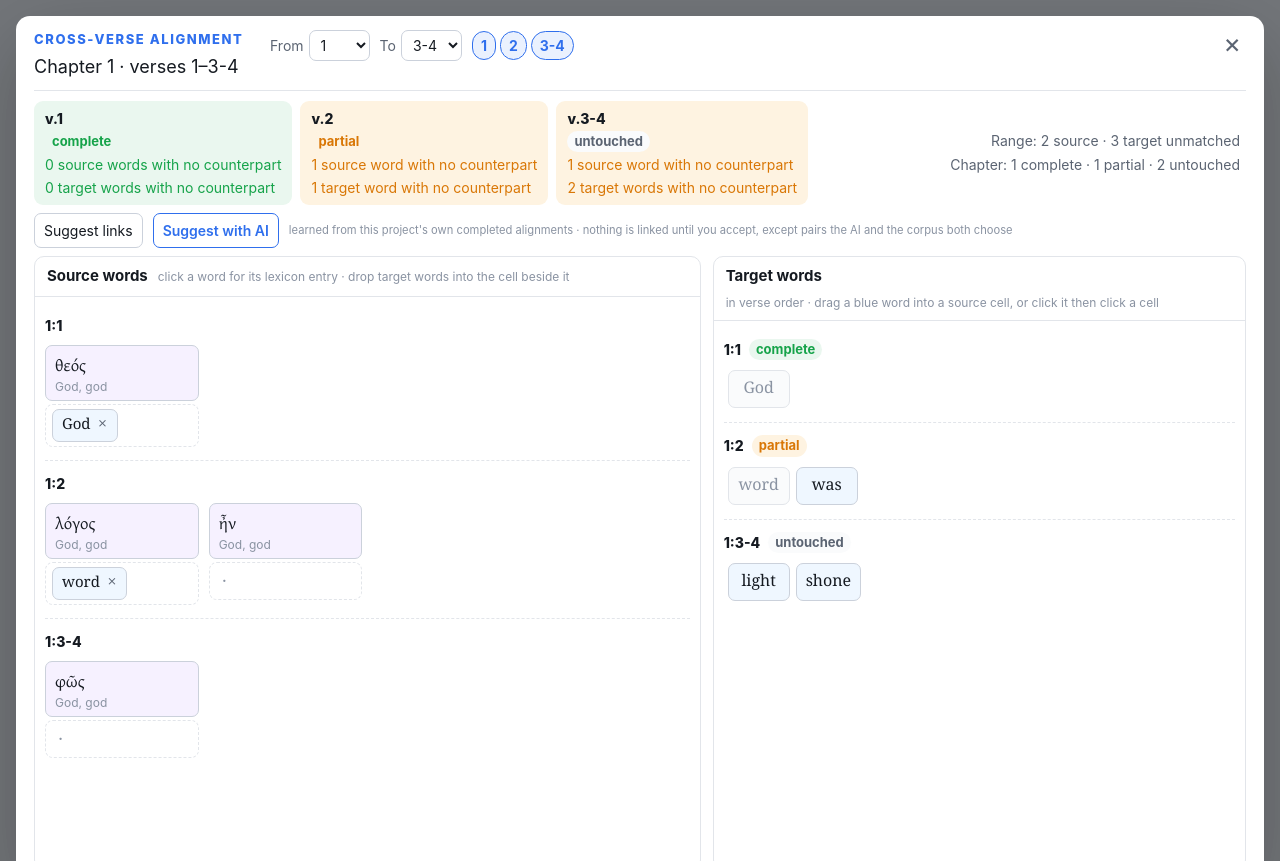
Scenario: CrossVerseAlignmentModal › cross-verse suggestions (#139) › reports suggestions as stale when the range moves under them
Expected: the 2nd text "1:2" is shown, [45,472,65,494]
Click the button "Suggest links" at (88, 230), box [34,213,143,248]
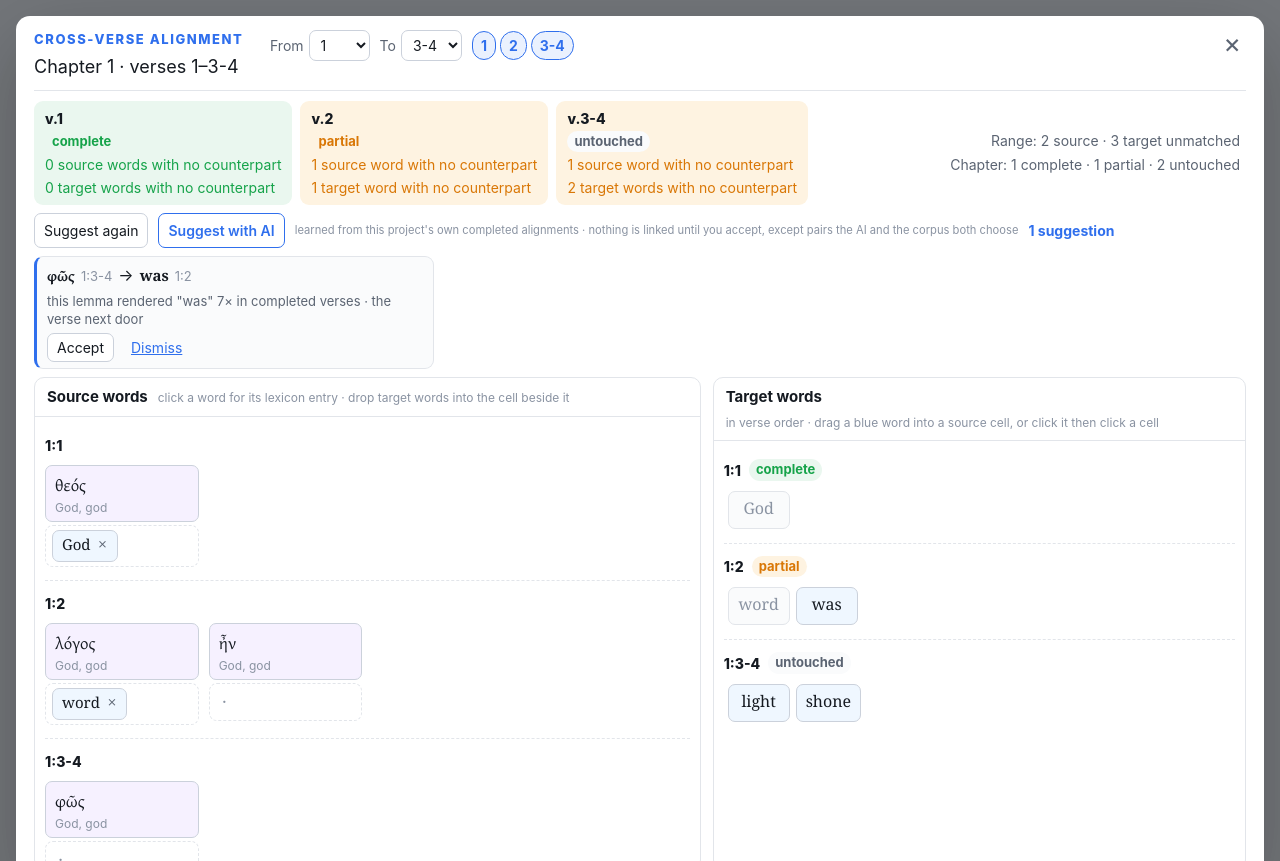
Expected: the text "range changed" is not shown
Select "5" in the dropdown labelled "To" at (431, 46), box [401,30,462,61]
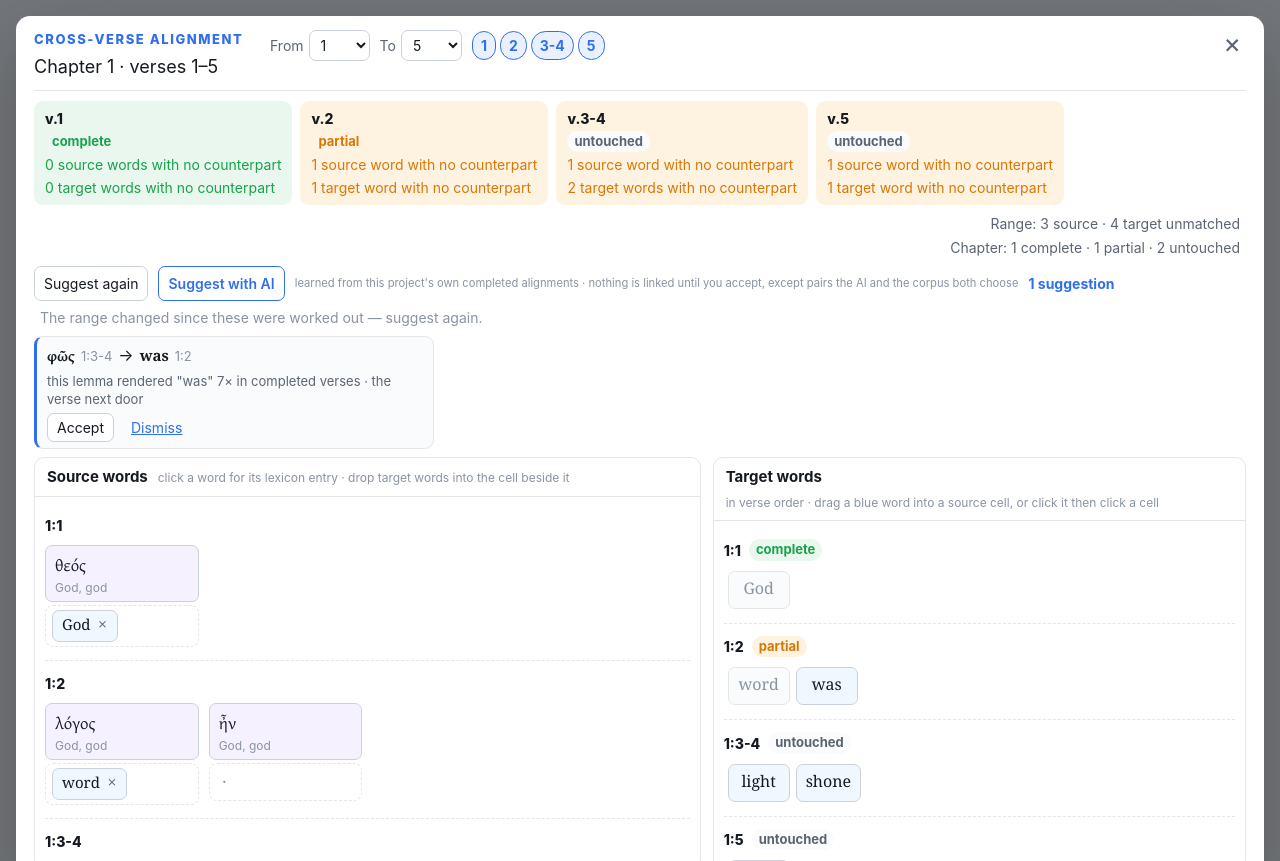
Expected: the text "The range changed since these were worked out" is shown, [40,309,482,326]
